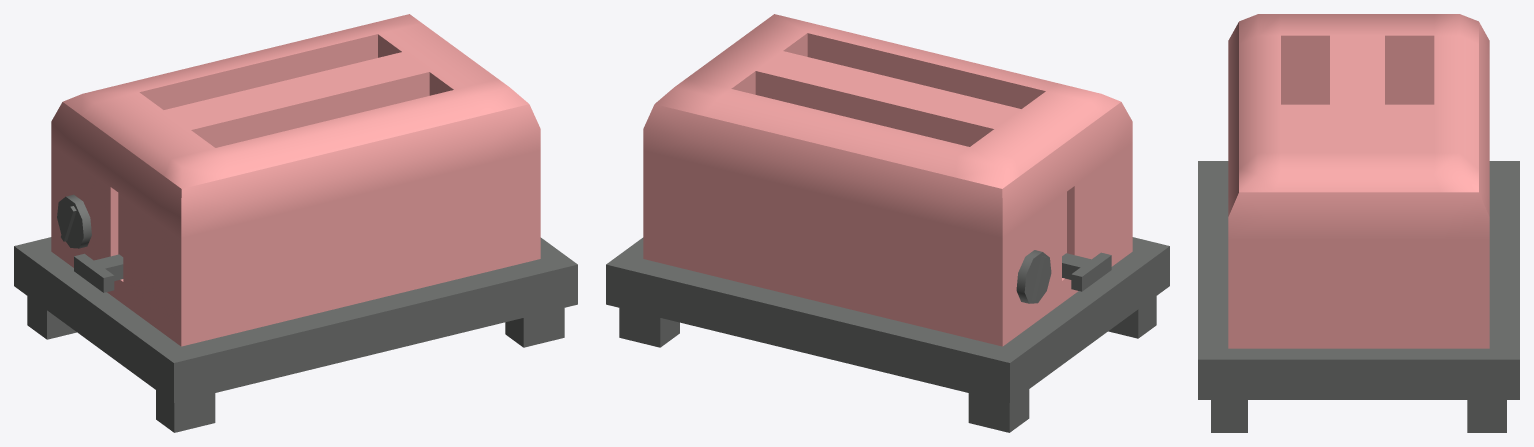
The model's file is Cocina_Tostador_19.fbx.
The picture shows the model from 3 angles, left to right: view 1: azimuth 30°, elevation 25°; view 2: azimuth 150°, elevation 25°; view 3: azimuth 270°, elevation 25°; orthographic projection.
Visible parts, largest first — view 1: tostador base; view 2: tostador base; view 3: tostador base.
Part boxes in pixels (x1=…): tostador base: x1=14, y1=14, x2=577, y2=432; tostador base: x1=606, y1=14, x2=1169, y2=432; tostador base: x1=1198, y1=14, x2=1519, y2=432.
Bounding box in the file's own units: 36.02 × 20.23 × 24.32.
Materials: 2 (2 with a texture image).
